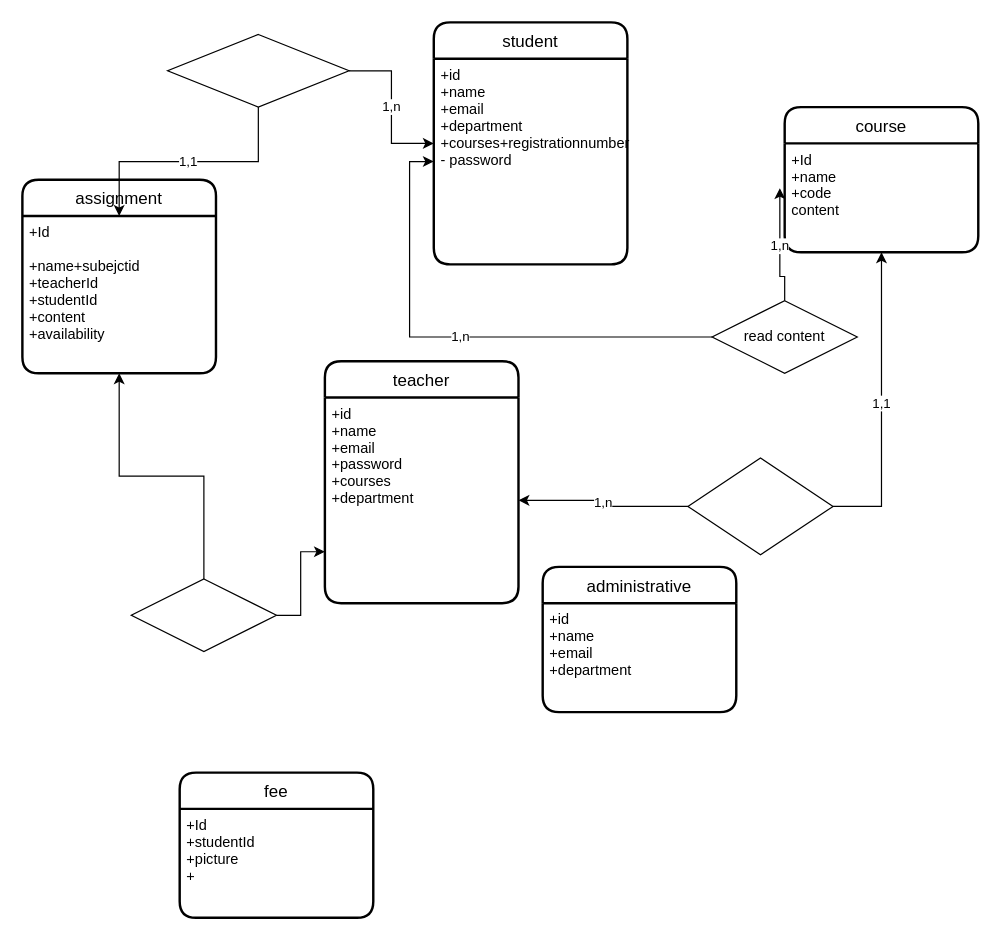
Image size: 999x939. Some labels were removed from this diagram. The centre of each missing label's shape, as x and y in pixels:
post assignment: point (203, 615)
post content: point (760, 506)
submitAssignmenrt: point (257, 70)
